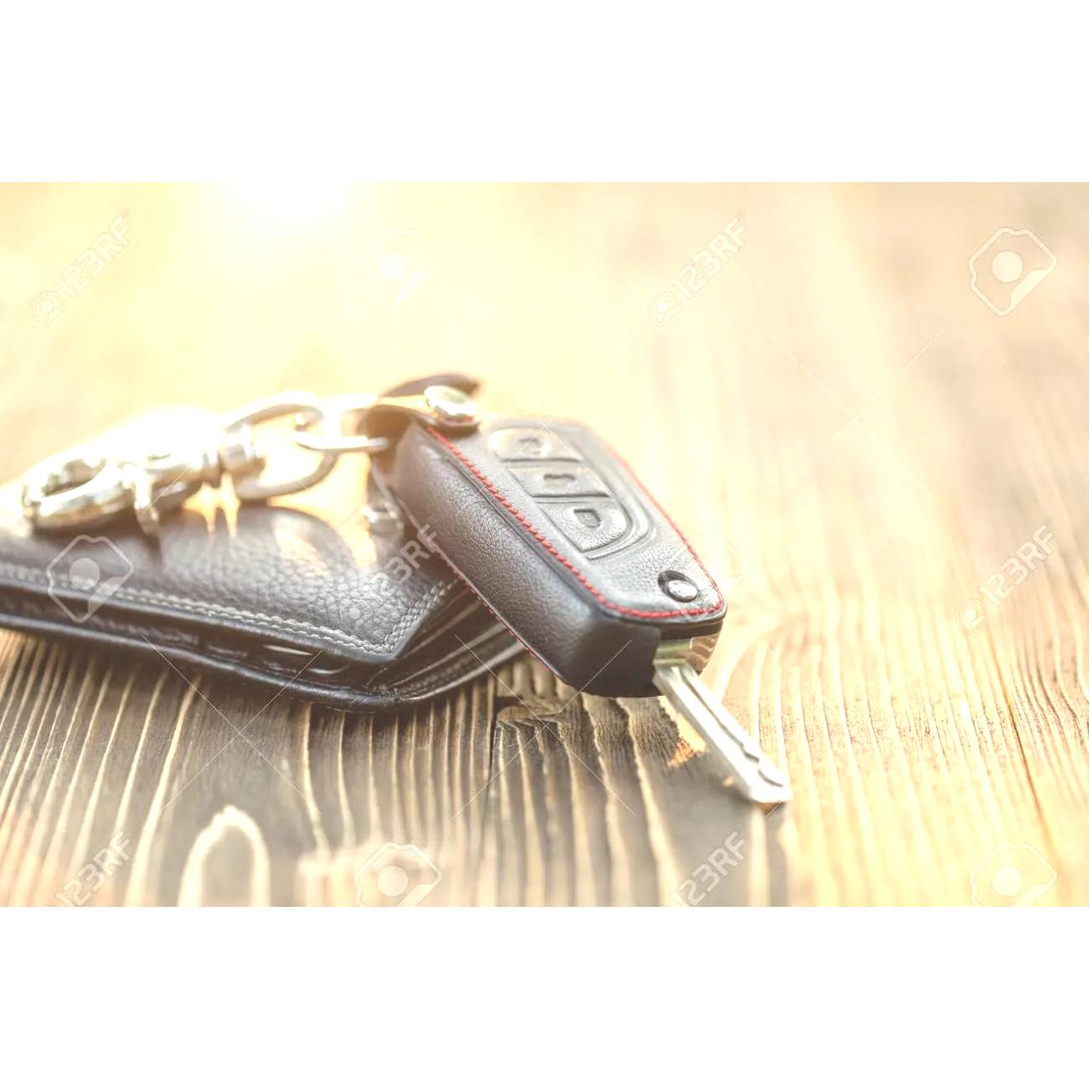wallet: (9, 396, 483, 721)
